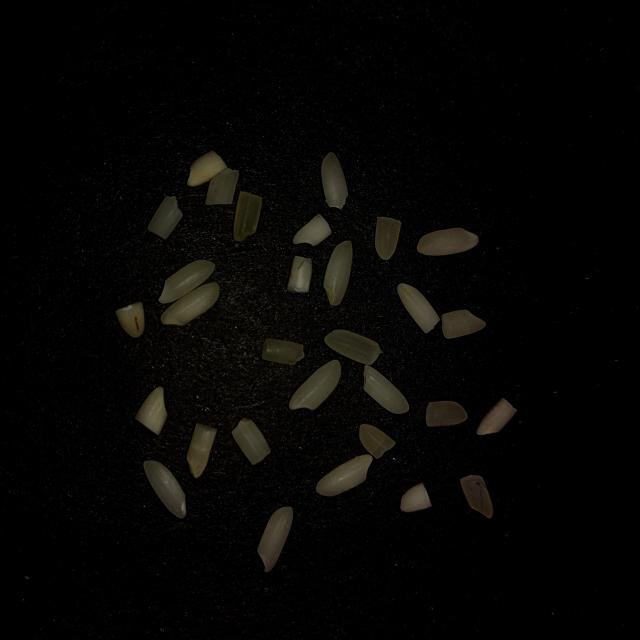Broken: (363, 365, 409, 414), (398, 283, 440, 334), (324, 329, 381, 365), (232, 418, 270, 466), (186, 423, 217, 478), (134, 386, 167, 436), (147, 196, 183, 240), (321, 151, 348, 209), (187, 150, 228, 187), (476, 398, 517, 435), (234, 191, 262, 242), (460, 475, 492, 519), (359, 424, 396, 459), (205, 168, 239, 205), (293, 214, 332, 246), (442, 310, 486, 338), (262, 338, 304, 365), (425, 401, 468, 427), (375, 217, 401, 260), (116, 301, 145, 338), (401, 482, 432, 512), (287, 256, 312, 293)
Full: (288, 360, 342, 410), (160, 282, 220, 326), (142, 460, 186, 519), (159, 259, 215, 304), (316, 454, 373, 496), (258, 507, 294, 572), (324, 240, 354, 306), (417, 227, 479, 255)
